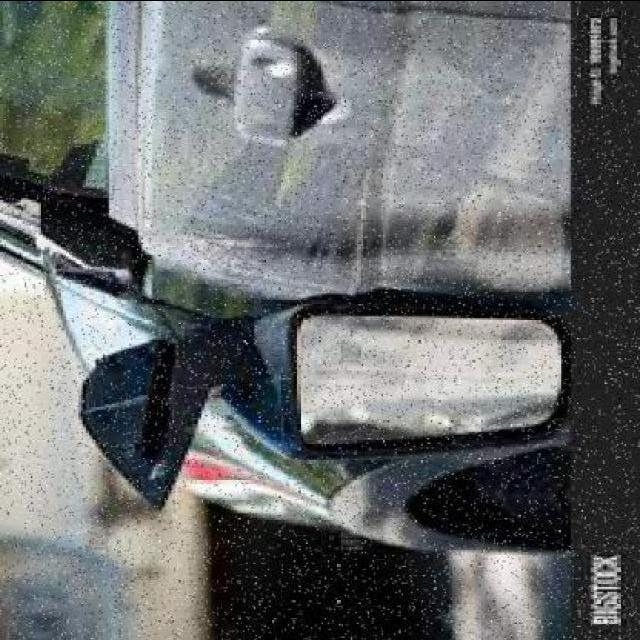Sidemirror-Damage: (49, 301, 570, 504)
